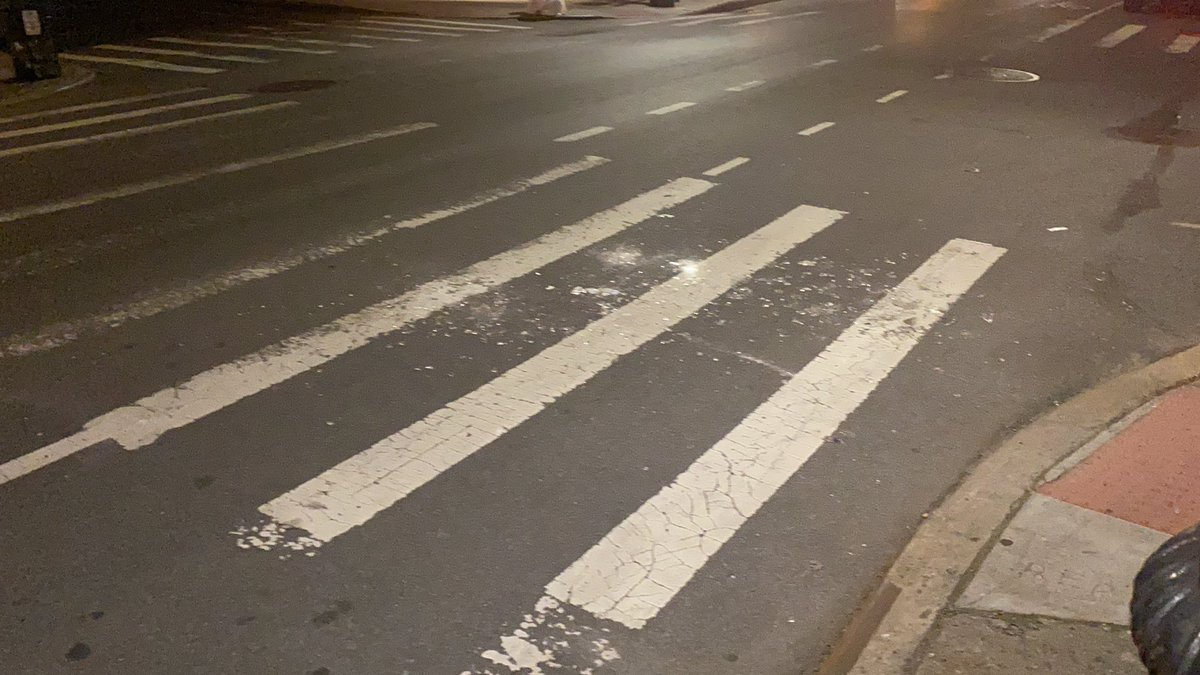crosswalk: (1, 106, 1064, 675), (73, 1, 532, 94)
street: (1, 1, 1184, 675)
